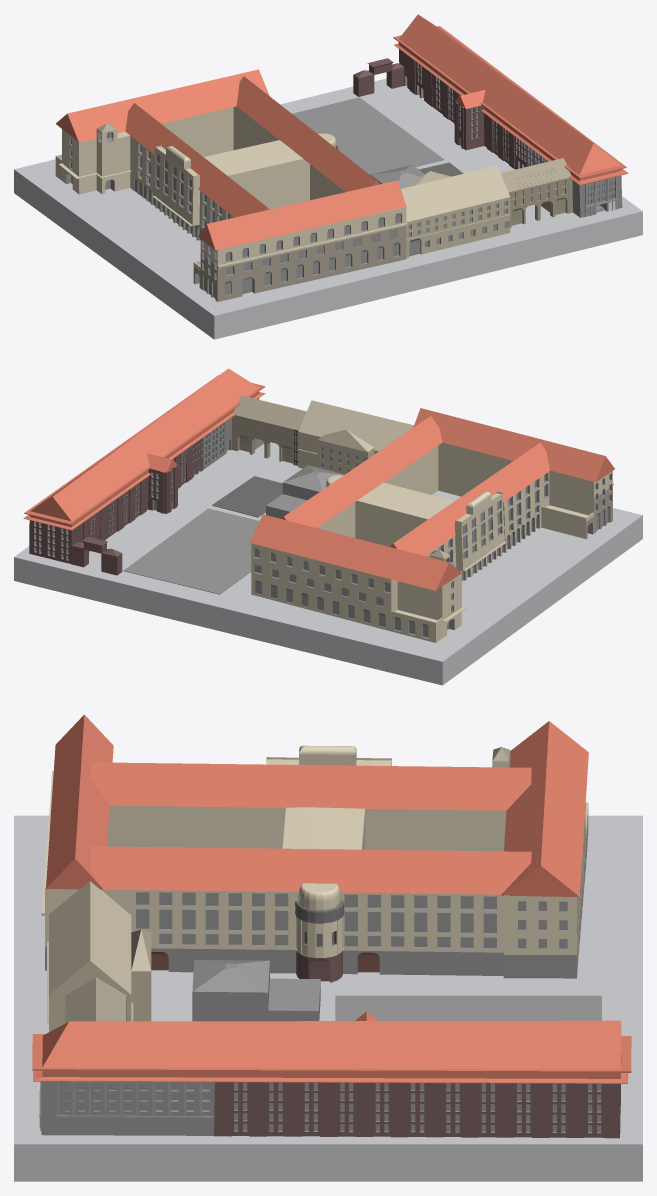
Rendered from deliveryherowip.glb.
3 renders of one model, top to bottom at view 1: azimuth 30°, elevation 25°; view 2: azimuth 150°, elevation 25°; view 3: azimuth 270°, elevation 25°, orthographic. The views are drawn at different scales.
Parts seen in each view (by area): view 1: Plane, Building.001, Building.003, Side building, Building, Dach, Plane.001, Dach.001, Dach.003, Dach.002, Building.002, Cube.006 (+1 smaller); view 2: Plane, Building.001, Building.003, Building, Plane.001, Dach.001, Side building, Dach.003, Dach, Dach.002, Building.002, Restaurant (+2 smaller); view 3: Plane, Building.001, Building.003, Building, Dach.002, Dach.003, Dach.001, Side building, Dach, Restaurant, Plane.001, Wieza (+2 smaller).
Boxes of the visible parts, x1=… form: Plane: x1=14, y1=78, x2=642, y2=339; Building.001: x1=55, y1=106, x2=407, y2=301; Building.003: x1=393, y1=14, x2=627, y2=184; Side building: x1=401, y1=165, x2=510, y2=257; Building: x1=399, y1=49, x2=627, y2=217; Dach: x1=198, y1=180, x2=406, y2=250; Plane.001: x1=292, y1=97, x2=444, y2=171; Dach.001: x1=56, y1=69, x2=269, y2=142; Dach.003: x1=236, y1=76, x2=380, y2=191; Dach.002: x1=125, y1=103, x2=269, y2=217; Building.002: x1=500, y1=158, x2=572, y2=227; Cube.006: x1=353, y1=58, x2=404, y2=96; Plane: x1=14, y1=442, x2=642, y2=685; Building.001: x1=251, y1=442, x2=613, y2=642; Building.003: x1=23, y1=368, x2=265, y2=530; Building: x1=29, y1=398, x2=259, y2=563; Plane.001: x1=123, y1=508, x2=259, y2=594; Dach.001: x1=249, y1=514, x2=461, y2=590; Side building: x1=297, y1=400, x2=413, y2=474; Dach.003: x1=281, y1=416, x2=442, y2=527; Dach: x1=413, y1=408, x2=614, y2=482; Dach.002: x1=390, y1=442, x2=550, y2=555; Building.002: x1=231, y1=395, x2=306, y2=465; Restaurant: x1=266, y1=465, x2=344, y2=518; Plane: x1=14, y1=815, x2=642, y2=1181; Building.001: x1=41, y1=745, x2=588, y2=978; Building.003: x1=32, y1=1020, x2=631, y2=1083; Building: x1=41, y1=1011, x2=620, y2=1138; Dach.002: x1=91, y1=762, x2=531, y2=810; Dach.003: x1=91, y1=846, x2=531, y2=894; Dach.001: x1=501, y1=721, x2=588, y2=896; Side building: x1=47, y1=881, x2=151, y2=1031; Dach: x1=46, y1=714, x2=113, y2=889; Restaurant: x1=192, y1=959, x2=320, y2=1021; Plane.001: x1=335, y1=995, x2=601, y2=1020; Wieza: x1=295, y1=883, x2=344, y2=982.
Bounding box in the file's own units: 20.53 × 4.54 × 16.62.
